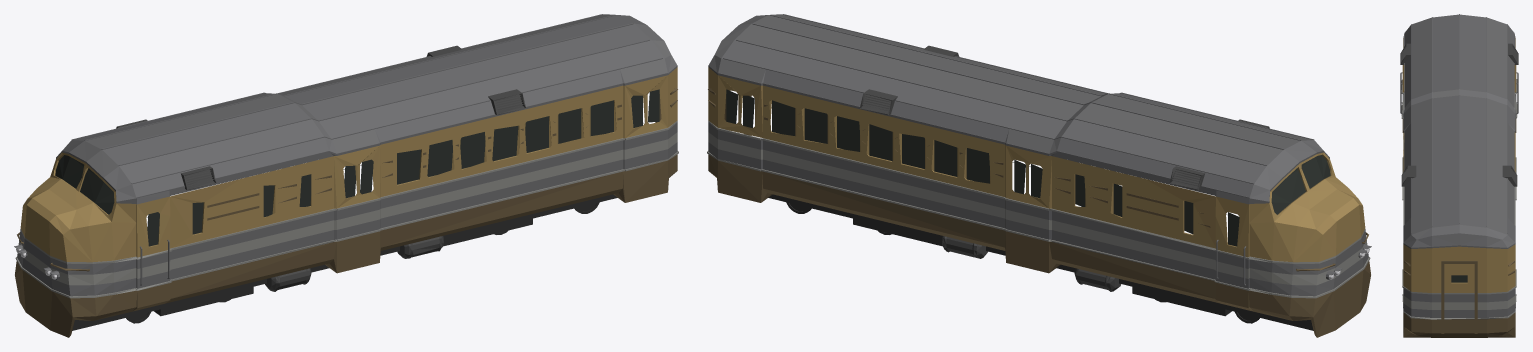
The model's file is cargo-train-front.glb.
3 renders of one model, left to right at view 1: azimuth 30°, elevation 25°; view 2: azimuth 150°, elevation 25°; view 3: azimuth 270°, elevation 25°, orthographic. The views are drawn at different scales.
Visible parts, largest first — view 1: Wheels4; view 2: Wheels4; view 3: Wheels4.
Part boxes in pixels (box(x1,y1,x2,y2)): Wheels4: box(14, 14, 678, 337); Wheels4: box(707, 14, 1371, 337); Wheels4: box(1400, 14, 1518, 337).
Size of the model in its own units: 10.35 by 2.68 by 2.15.
Materials: 2 (2 with a texture image).
